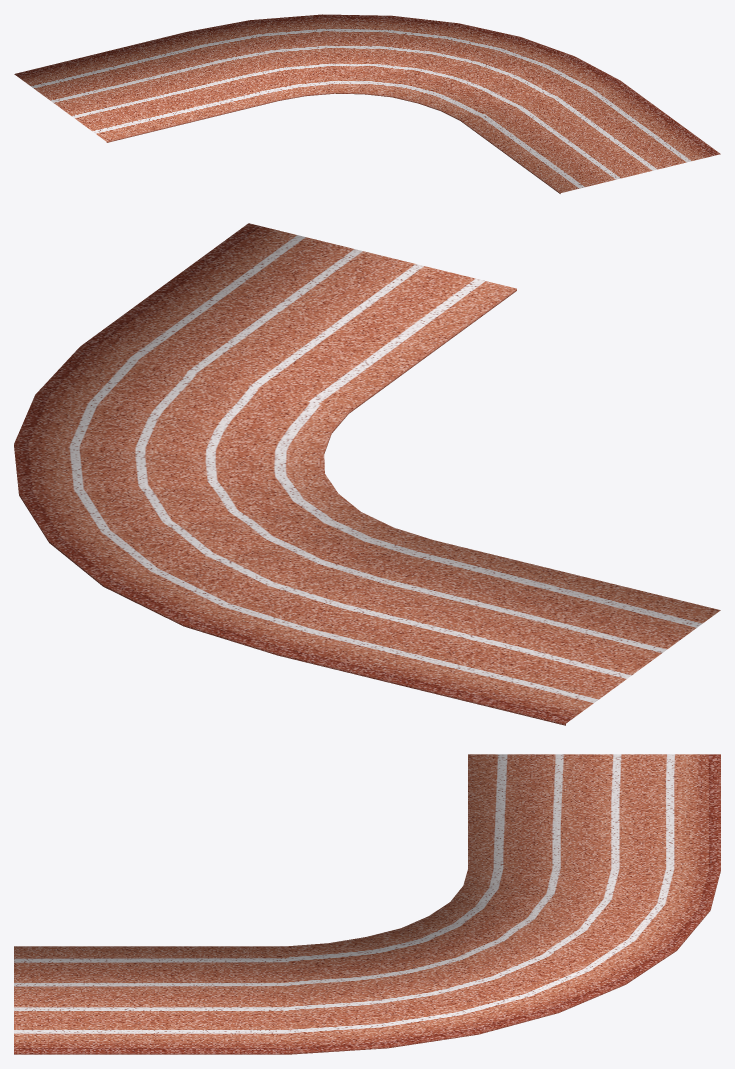
The model's file is a_SEtrack03.glb.
3 views of the same model, one above another, from view 1: azimuth 30°, elevation 25°; view 2: azimuth 150°, elevation 25°; view 3: azimuth 270°, elevation 25° (orthographic). The views are drawn at different scales.
Visible parts, largest first — view 1: a_SEtrack03; view 2: a_SEtrack03; view 3: a_SEtrack03.
Part boxes in pixels (<box>): a_SEtrack03: <box>14,14,720,193</box>; a_SEtrack03: <box>14,223,720,725</box>; a_SEtrack03: <box>14,754,720,1054</box>.
Size of the model in its own units: 13.08 by 0.0351 by 13.08.
Materials: 1 (1 with a texture image).
